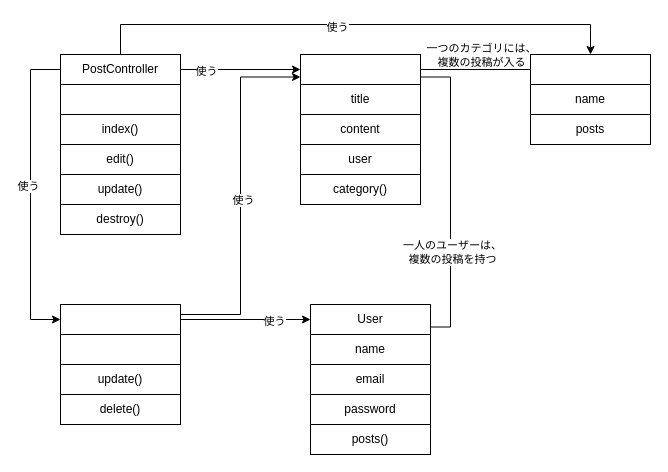
This 668x472 diagram has some shape labels left out. Each missing label, with the box of its shape:
Category: (530, 54, 650, 84)
Post: (300, 54, 420, 84)
PostPolicy: (60, 304, 180, 334)
